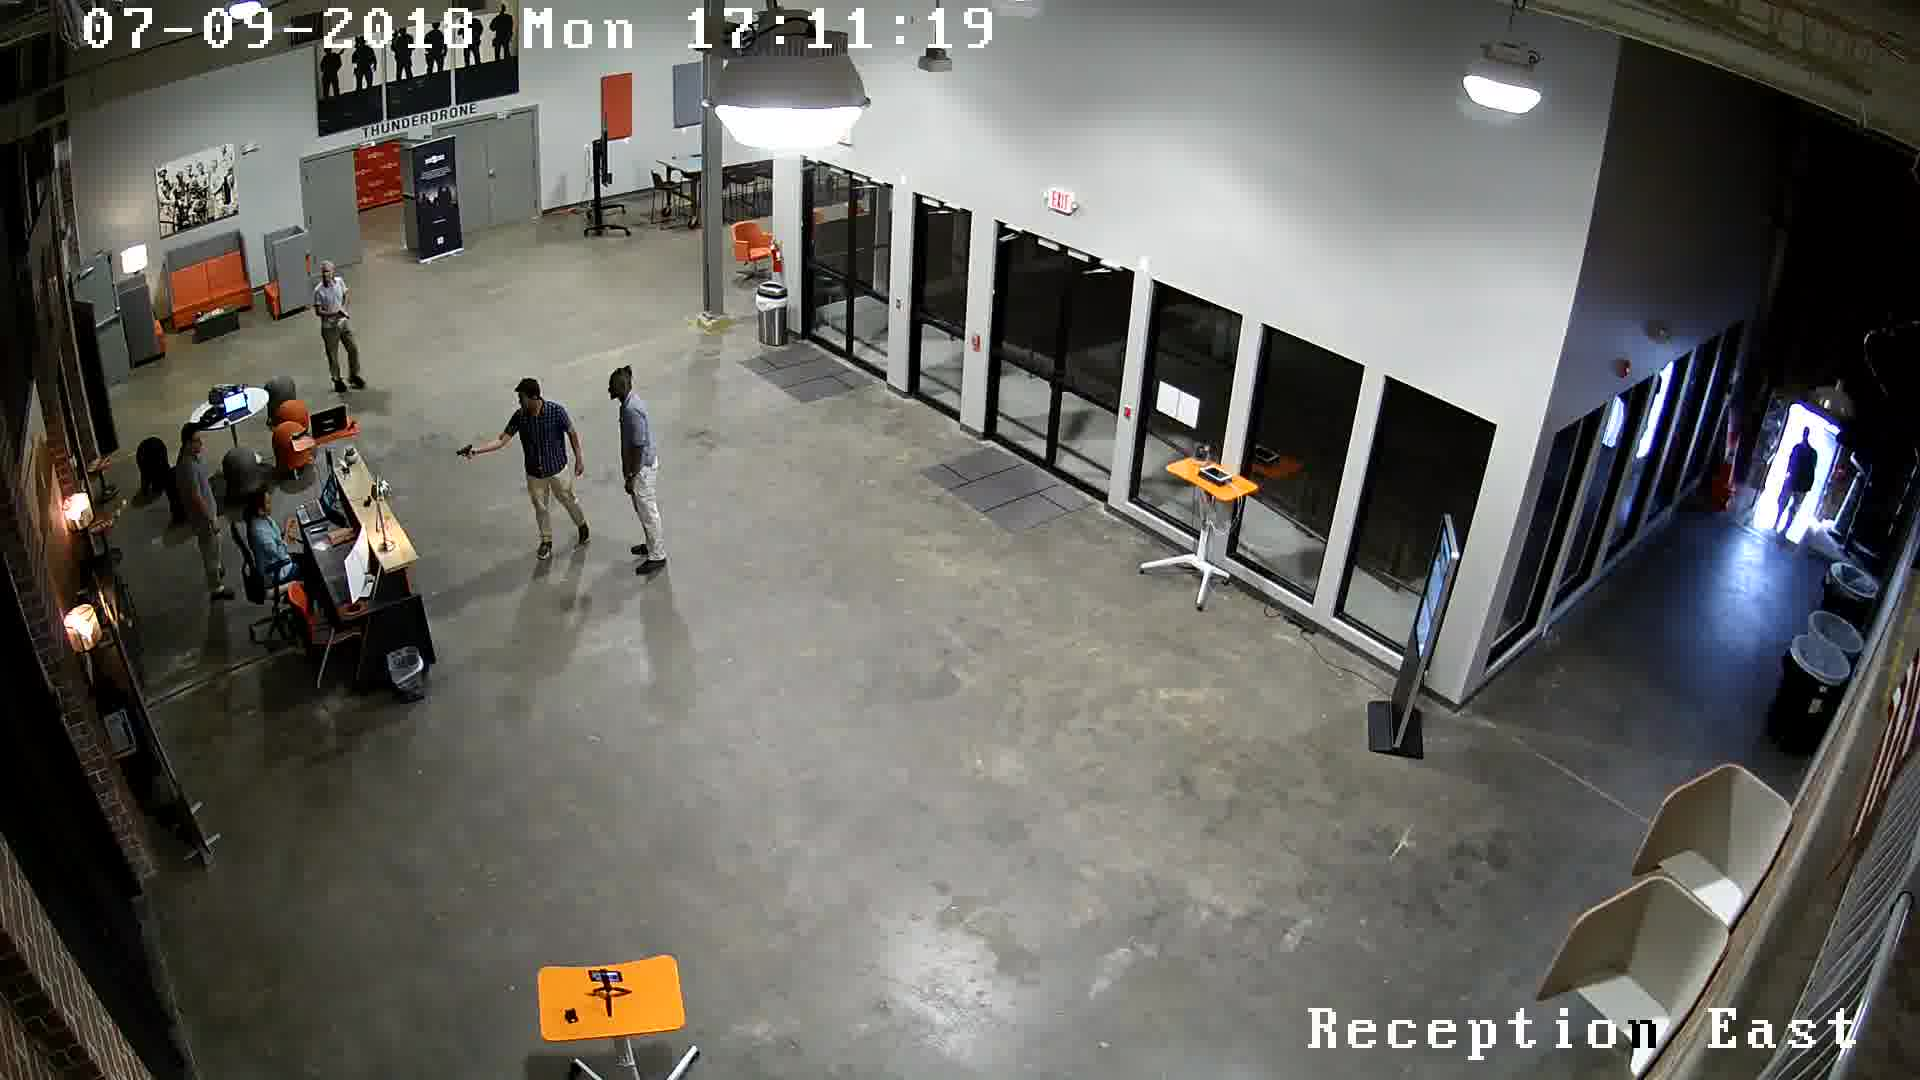pistol: (431, 429, 495, 481), (327, 305, 357, 328)
